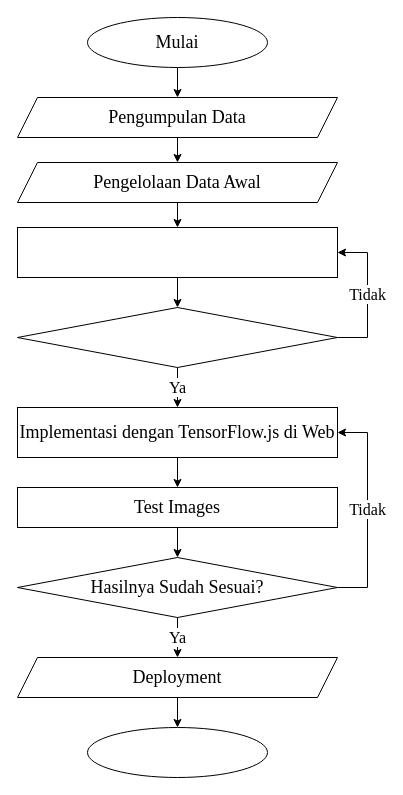
This 403x795 diagram has some shape labels left out. The shapes that lost their labels are listed below. From the top down, each one's box as (x1, y1, x2, y2) in pixels, then its label:
(16, 226, 338, 278): Model Klasifikasi dengan Algoritma CNN
(16, 306, 338, 368): Model Sudah Akurat?
(86, 726, 268, 778): Selesai
